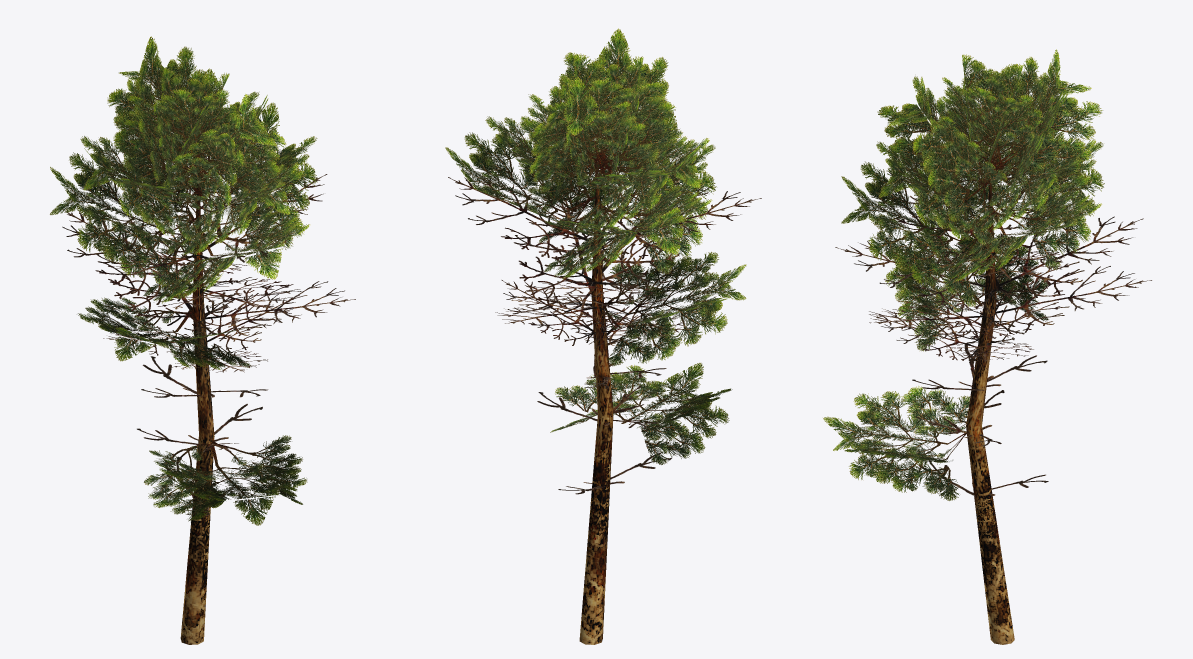
Rendered from pine-2.glb.
3 views of the same model, side by side, from view 1: azimuth 30°, elevation 25°; view 2: azimuth 150°, elevation 25°; view 3: azimuth 270°, elevation 25° (orthographic).
Parts seen in each view (by area): view 1: pine-2; view 2: pine-2; view 3: pine-2.
Part boxes in pixels (x1,y1,x2,y2): pine-2: (50, 36, 355, 644); pine-2: (445, 28, 761, 644); pine-2: (823, 49, 1151, 644).
Bounding box in the file's own units: 9.12 × 16.81 × 9.63.
Materials: 2 (2 with a texture image).
